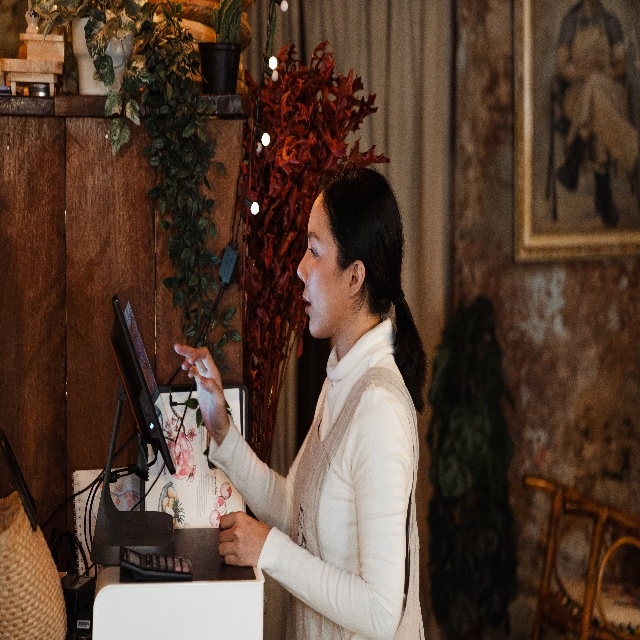Sin_guantes: (173, 343, 229, 444), (216, 517, 270, 572)
